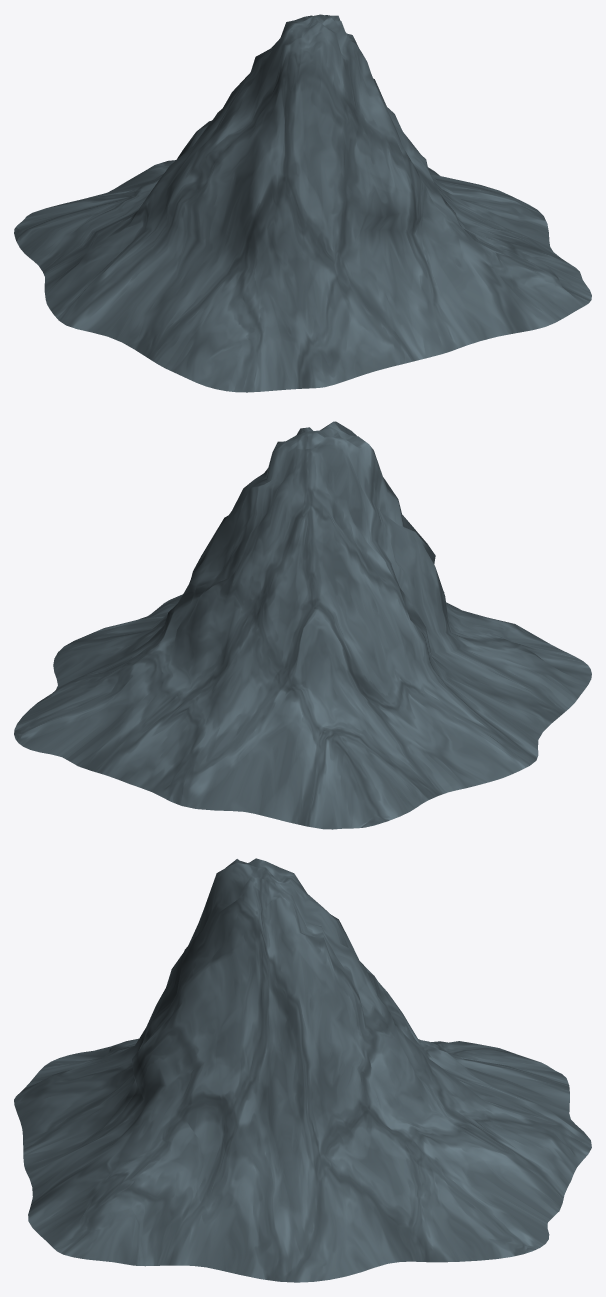
Rendered from mountain.glb.
The picture shows the model from 3 angles, top to bottom: view 1: azimuth 30°, elevation 25°; view 2: azimuth 150°, elevation 25°; view 3: azimuth 270°, elevation 25°; orthographic projection. The views are drawn at different scales.
Parts seen in each view (by area): view 1: Mountain01_LOD0; view 2: Mountain01_LOD0; view 3: Mountain01_LOD0.
Part boxes in pixels (<box>): Mountain01_LOD0: <box>14,14,591,392</box>; Mountain01_LOD0: <box>14,421,591,829</box>; Mountain01_LOD0: <box>14,858,591,1282</box>.
Size of what is drawn, in the model's own units: 277 by 148 by 267.
Materials: 1 (1 with a texture image).
